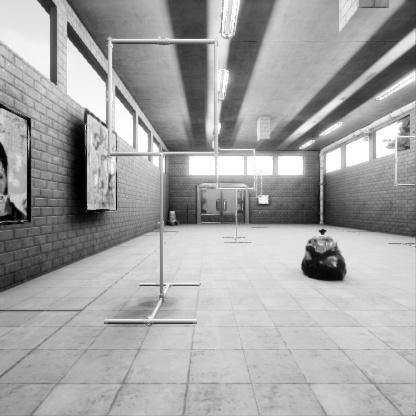gate: (114, 262, 224, 372), (218, 227, 257, 267), (398, 232, 416, 282), (256, 219, 262, 247)
